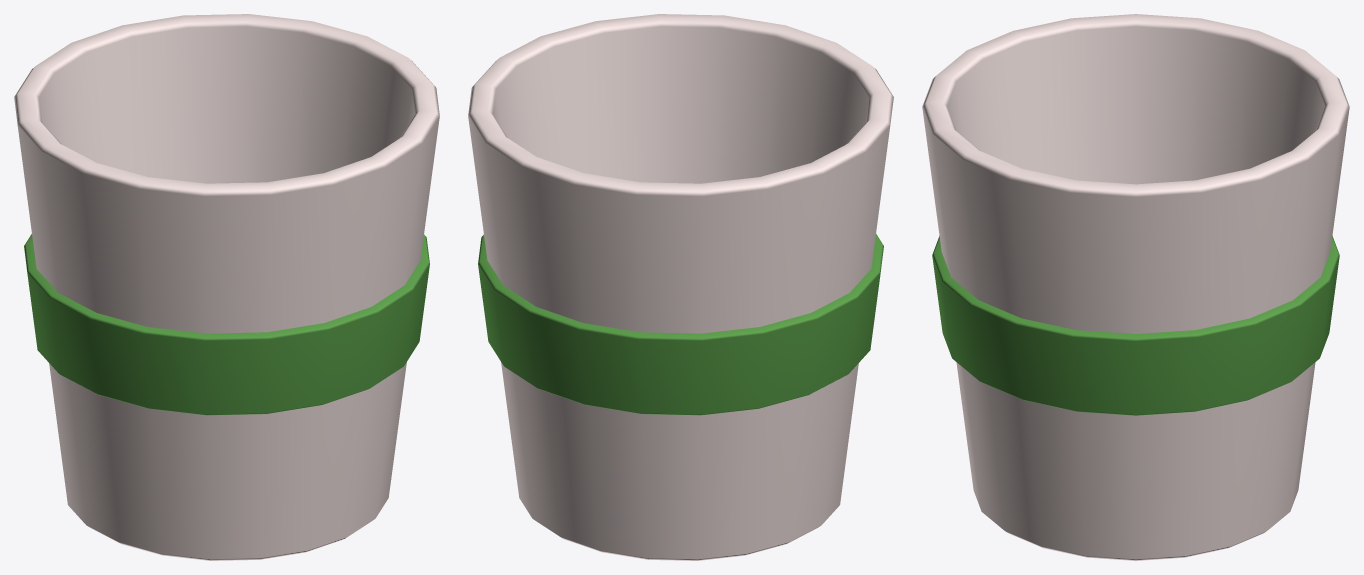
The model's file is Coffee_Cup_To_Go_1.fbx.
3 renders of one model, left to right at view 1: azimuth 30°, elevation 25°; view 2: azimuth 150°, elevation 25°; view 3: azimuth 270°, elevation 25°, orthographic.
Parts seen in each view (by area): view 1: Coffee_Cup_To_Go_1; view 2: Coffee_Cup_To_Go_1; view 3: Coffee_Cup_To_Go_1.
Boxes of the visible parts, x1,y1,x2,y2 form: Coffee_Cup_To_Go_1: (14,14,439,560); Coffee_Cup_To_Go_1: (468,14,893,560); Coffee_Cup_To_Go_1: (922,14,1349,560).
Bounding box in the file's own units: 12.84 × 12.99 × 12.84.
